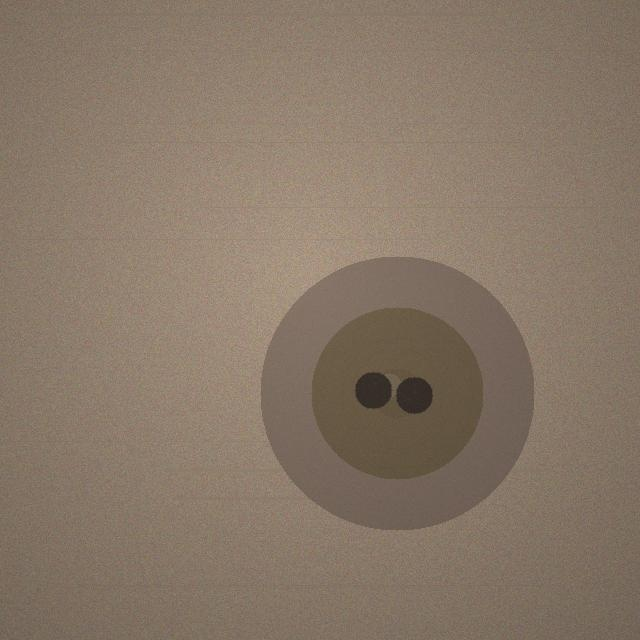shrinkage: (260, 256, 534, 530)
